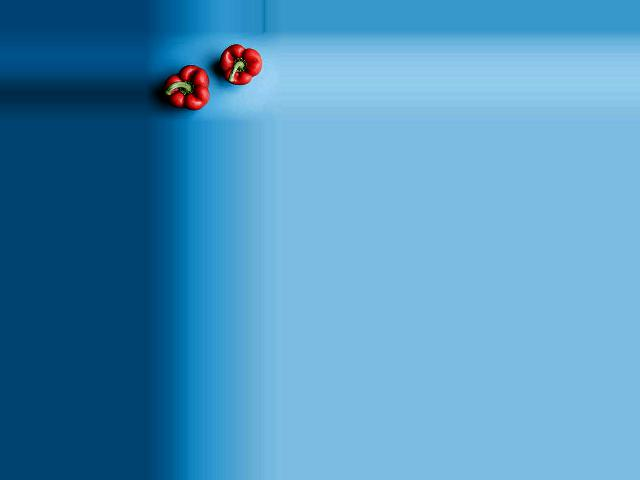bell_pepper: (158, 59, 218, 109)
